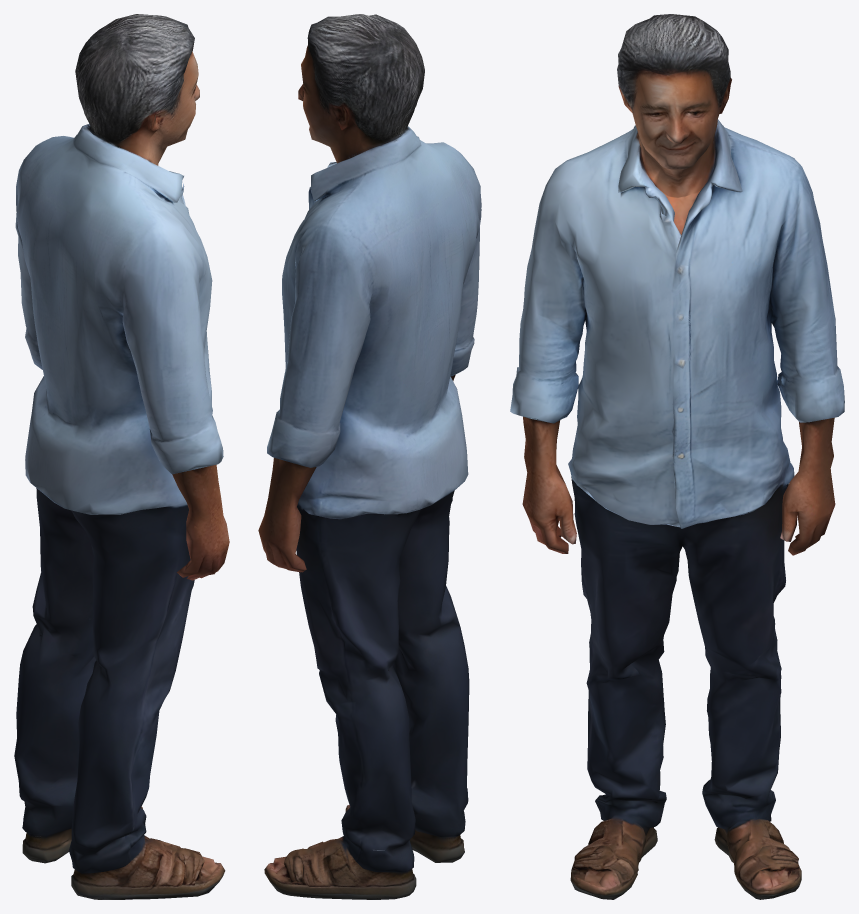
3 renders of one model, left to right at view 1: azimuth 30°, elevation 25°; view 2: azimuth 150°, elevation 25°; view 3: azimuth 270°, elevation 25°, orthographic. The views are drawn at different scales.
Parts seen in each view (by area): view 1: tripo_node_33d0b431-b4c7-41d4-9735-c4b1d48b3415; view 2: tripo_node_33d0b431-b4c7-41d4-9735-c4b1d48b3415; view 3: tripo_node_33d0b431-b4c7-41d4-9735-c4b1d48b3415.
Boxes of the visible parts, x1,y1,x2,y2 form: tripo_node_33d0b431-b4c7-41d4-9735-c4b1d48b3415: (14,14,229,899); tripo_node_33d0b431-b4c7-41d4-9735-c4b1d48b3415: (258,14,481,899); tripo_node_33d0b431-b4c7-41d4-9735-c4b1d48b3415: (510,14,844,899).
Bounding box in the file's own units: 0.3572 × 1.8 × 0.6342.
Materials: 1 (1 with a texture image).
